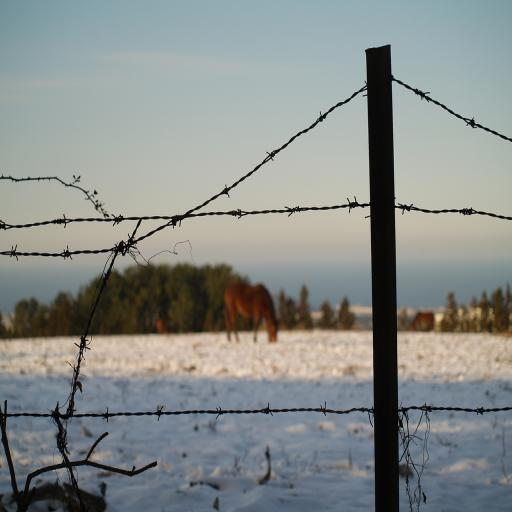horse: (220, 282, 280, 344)
